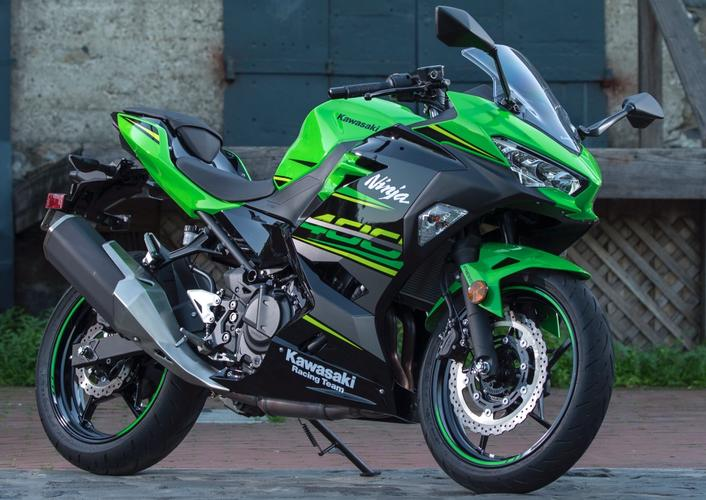摩托车: (15, 4, 667, 494)
